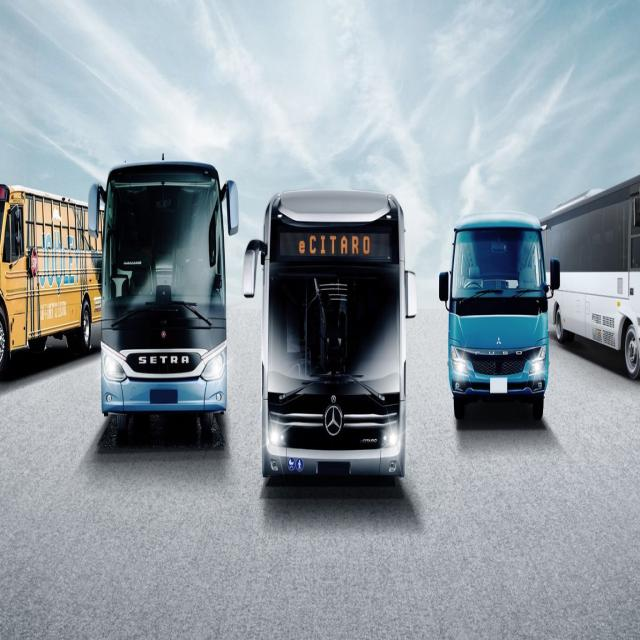BUS: (243, 188, 419, 495), (96, 159, 245, 438), (436, 212, 548, 412), (540, 169, 639, 383), (0, 186, 102, 382)
